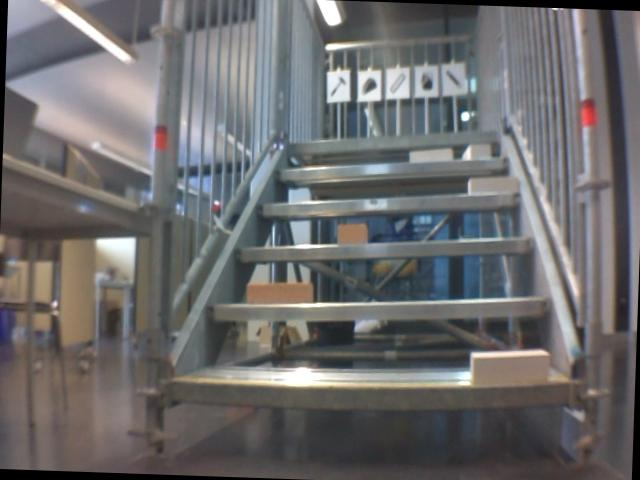brick: (470, 348, 550, 386), (247, 281, 311, 304), (466, 177, 519, 194), (408, 147, 451, 163), (337, 223, 365, 244), (462, 143, 491, 159)
bucket: (417, 69, 436, 93)
edge: (175, 369, 571, 416), (208, 287, 553, 328), (233, 229, 538, 269), (256, 185, 523, 224), (273, 150, 511, 187), (289, 124, 495, 153)
hammer: (326, 75, 348, 98)
pencil: (443, 68, 465, 88)
ruler: (388, 70, 406, 94)
steps: (162, 118, 587, 425)
taco: (359, 74, 379, 97)
